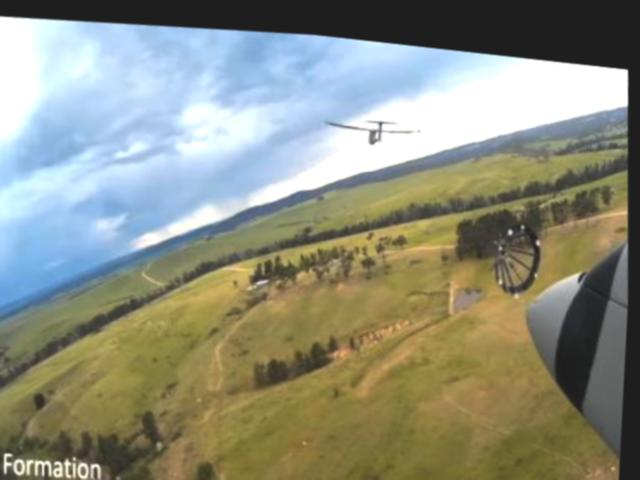uav: (322, 100, 424, 145)
